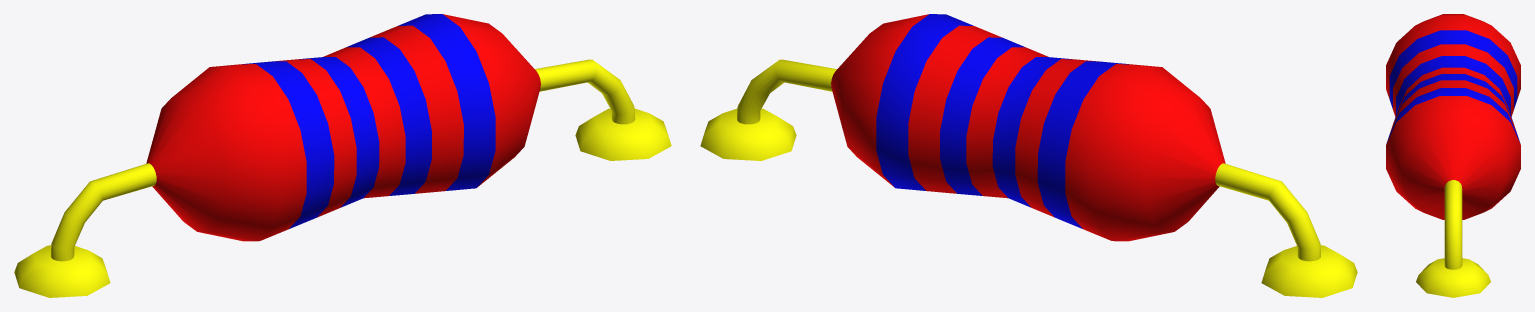
The model's file is resistor.fbx.
3 views of the same model, side by side, from view 1: azimuth 30°, elevation 25°; view 2: azimuth 150°, elevation 25°; view 3: azimuth 270°, elevation 25° (orthographic). The views are drawn at different scales.
Parts seen in each view (by area): view 1: resistor; view 2: resistor; view 3: resistor.
Part boxes in pixels (x1,y1,x2,y2): resistor: (14, 14, 671, 297); resistor: (700, 14, 1357, 297); resistor: (1386, 14, 1520, 297).
Bounding box in the file's own units: 14.08 × 3.37 × 3.36.
